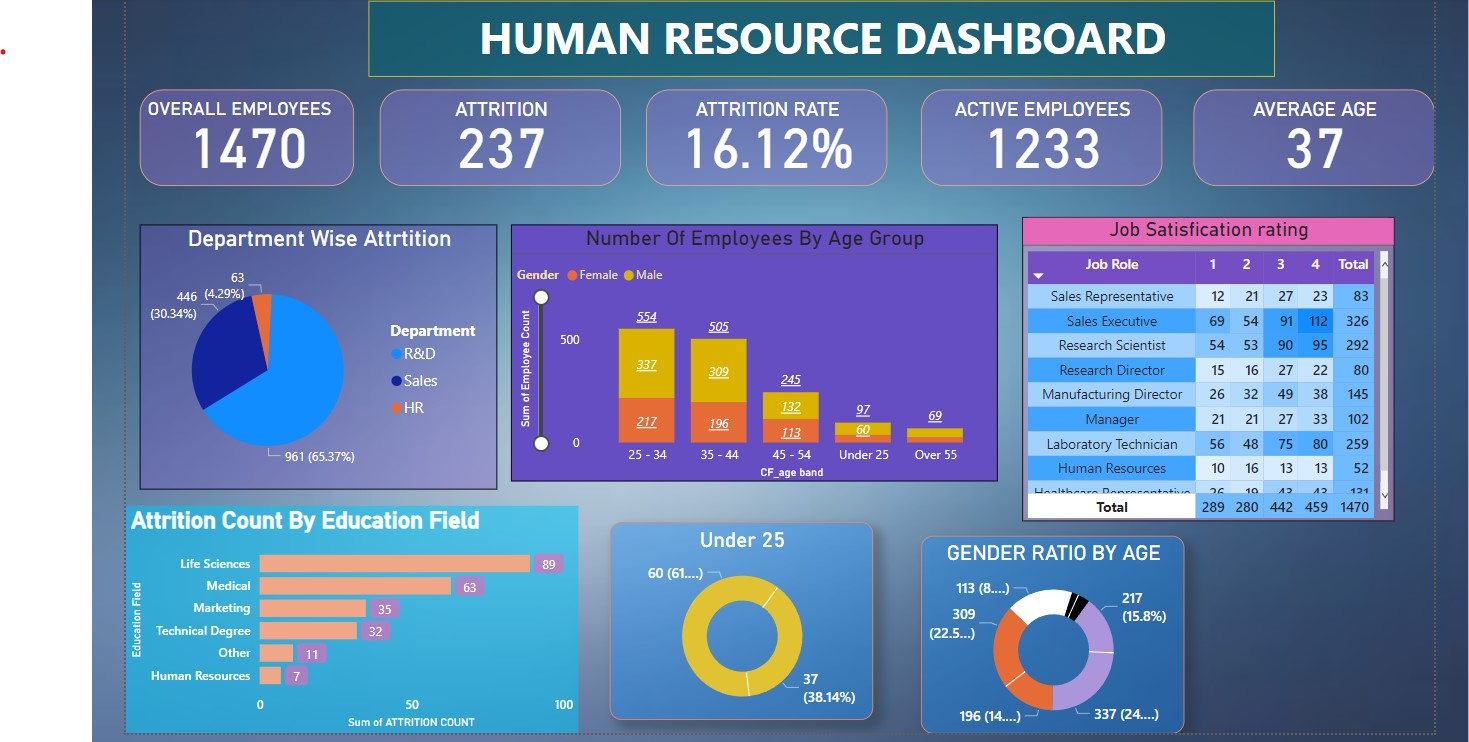

What the dashboard file says about the page in this screenshot:
{"tool":"powerbi","page":{"name":"Page 1","canvas":[1280,720],"ordinal":0},"visuals":[{"type":"card","title":"OVERALL EMPLOYEES ","fields":{"Values":["Sum(Table1.Employee Count)"]},"box":[13.7,90.6,209.9,94.7],"z":0},{"type":"card","title":"ATTRITION","fields":{"Values":["Sum(Table1.ATTRITION COUNT)"]},"box":[248.4,90.6,236,94.7],"z":1000},{"type":"card","title":"ATTRITION RATE","fields":{"Values":["Table1.ATTRITION RATE"]},"box":[509.1,90.6,236,94.7],"z":2000},{"type":"card","title":"ACTIVE EMPLOYEES","fields":{"Values":["Table1.ACTIVE EMPL"]},"box":[778,90.6,236,94.7],"z":3000},{"type":"card","title":"AVERAGE AGE","fields":{"Values":["Avg(Table1.Age)"]},"box":[1035.4,89.2,235.9,95.3],"z":4000},{"type":"pieChart","title":"Department Wise Attrtition","fields":{"Category":["Table1.Department"],"Y":["CountNonNull(Table1.Attrition)"]},"box":[13.7,222.3,349.9,259.3],"z":5000},{"type":"columnChart","title":"Number Of Employees By Age Group","fields":{"Category":["Table1.CF_age band"],"Y":["Sum(Table1.Employee Count)"],"Series":["Table1.Gender"]},"box":[376,222.3,476.2,251.1],"z":6000},{"type":"pivotTable","title":"Job Satisfication rating","fields":{"Rows":["Table1.Job Role"],"Columns":["Table1.Job Satisfaction"],"Values":["Sum(Table1.Employee Count)"]},"box":[876.8,215.4,363.6,297.8],"z":7000},{"type":"barChart","title":"Attrition Count By Education Field","fields":{"Category":["Table1.Education Field"],"Y":["Sum(Table1.ATTRITION COUNT)"]},"box":[0,497.5,442.5,222.5],"z":8000},{"type":"donutChart","title":"Under 25","fields":{"Category":["Table1.CF_age band"],"Series":["Table1.Gender"],"Y":["CountNonNull(Table1.Gender)"]},"box":[473.4,513.2,258,193.5],"z":9000},{"type":"donutChart","title":"GENDER RATIO BY AGE","fields":{"Category":["Table1.CF_age band"],"Series":["Table1.Gender"],"Y":["CountNonNull(Table1.Gender)"]},"box":[778,526.9,258,193.5],"z":10000},{"type":"textbox","box":[237.4,4.1,886.5,74.1],"z":11000}]}

Visuals, with their boxes on the page's 1280x720 design canvas (x1, y1, x2, y2). These are canvas units, not pixel positions in the 1469x742 screenshot, which may show the page scaled, cropped or inside an application window:
"OVERALL EMPLOYEES " card: box=[14, 91, 224, 185]
"ATTRITION" card: box=[248, 91, 484, 185]
"ATTRITION RATE" card: box=[509, 91, 745, 185]
"ACTIVE EMPLOYEES" card: box=[778, 91, 1014, 185]
"AVERAGE AGE" card: box=[1035, 89, 1271, 184]
"Department Wise Attrtition" pieChart: box=[14, 222, 364, 482]
"Number Of Employees By Age Group" columnChart: box=[376, 222, 852, 473]
"Job Satisfication rating" pivotTable: box=[877, 215, 1240, 513]
"Attrition Count By Education Field" barChart: box=[0, 498, 442, 720]
"Under 25" donutChart: box=[473, 513, 731, 707]
"GENDER RATIO BY AGE" donutChart: box=[778, 527, 1036, 720]
textbox: box=[237, 4, 1124, 78]
